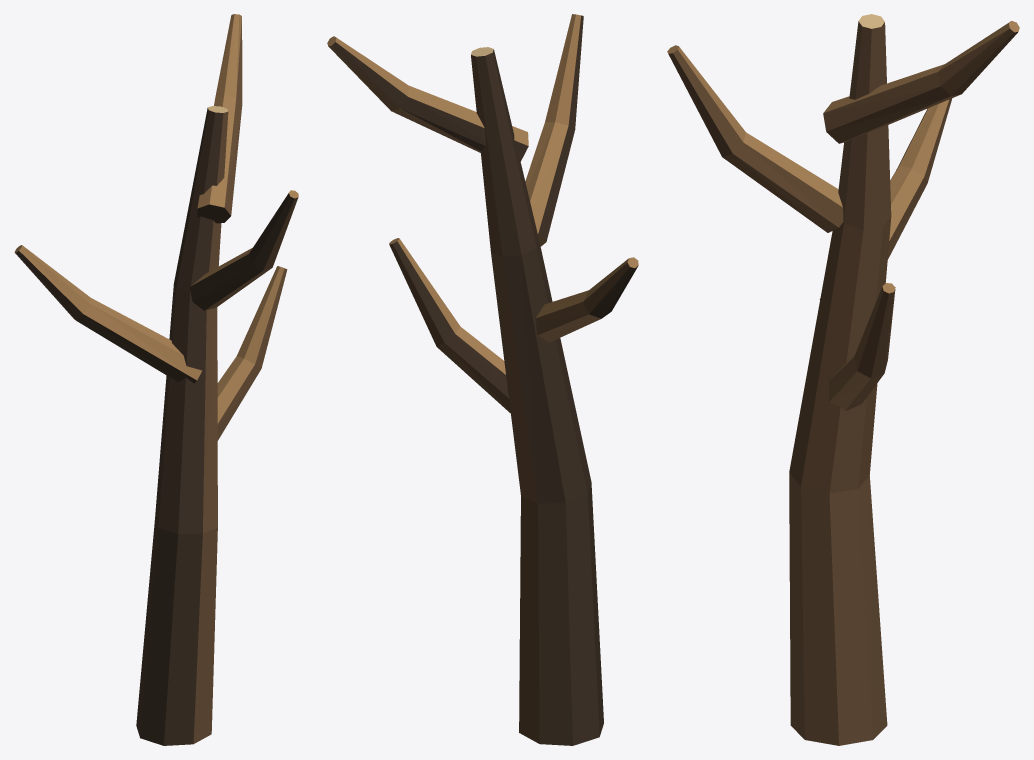
File: TW_TREE_DEAD_FORK_B_LOD0.glb
The picture shows the model from 3 angles, left to right: view 1: azimuth 30°, elevation 25°; view 2: azimuth 150°, elevation 25°; view 3: azimuth 270°, elevation 25°; orthographic projection. The views are drawn at different scales.
Parts seen in each view (by area): view 1: TW_TREE_DEAD_FORK_B_LOD0; view 2: TW_TREE_DEAD_FORK_B_LOD0; view 3: TW_TREE_DEAD_FORK_B_LOD0.
Boxes of the visible parts, box(x1,y1,x2,y2) form: TW_TREE_DEAD_FORK_B_LOD0: box(14, 14, 298, 745); TW_TREE_DEAD_FORK_B_LOD0: box(327, 14, 638, 745); TW_TREE_DEAD_FORK_B_LOD0: box(667, 14, 1019, 745).
Bounding box in the file's own units: 1.32 × 3.17 × 1.29.
1 material, 1 textured.
